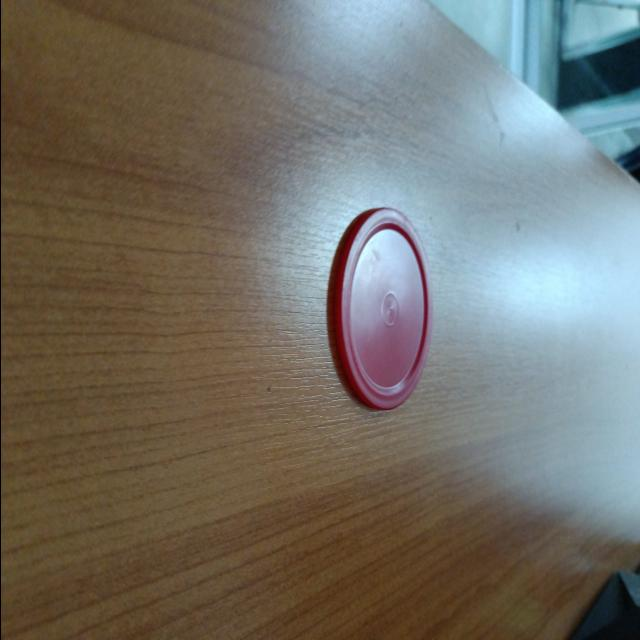chip: (332, 206, 433, 412)
